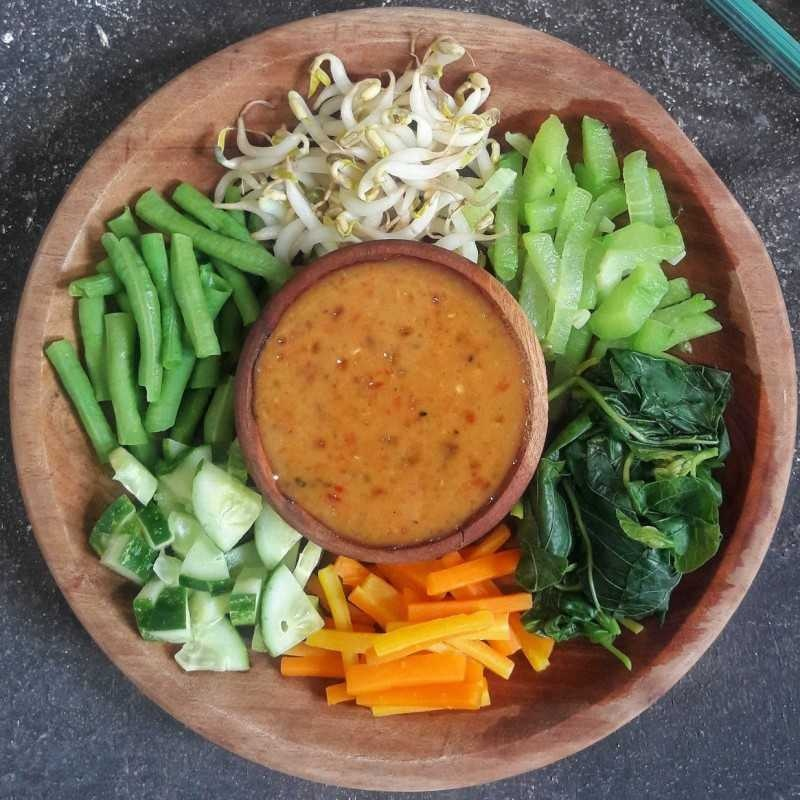pecel: (19, 58, 743, 716)
